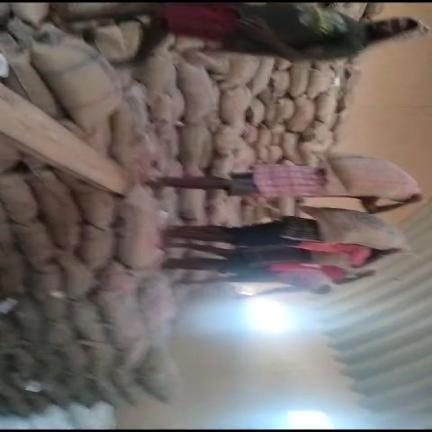Zone-Counting: (156, 153, 422, 213), (180, 207, 408, 250)
